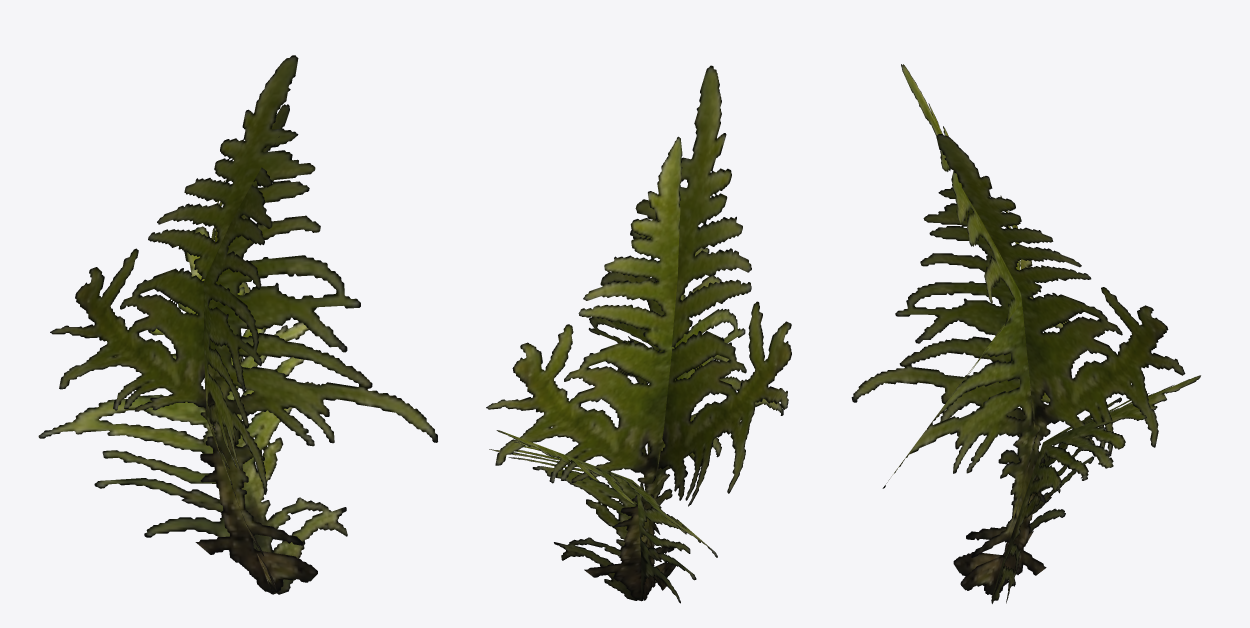
Rendered from moss_01.glb.
3 renders of one model, left to right at view 1: azimuth 30°, elevation 25°; view 2: azimuth 150°, elevation 25°; view 3: azimuth 270°, elevation 25°, orthographic. The views are drawn at different scales.
Parts seen in each view (by area): view 1: moss_01_a_LOD0; view 2: moss_01_a_LOD0; view 3: moss_01_a_LOD0.
Boxes of the visible parts, x1,y1,x2,y2 form: moss_01_a_LOD0: (38,55,437,594); moss_01_a_LOD0: (486,65,791,603); moss_01_a_LOD0: (851,64,1200,603).
Bounding box in the file's own units: 0.0142 × 0.026 × 0.0159.
Materials: 1 (1 with a texture image).
